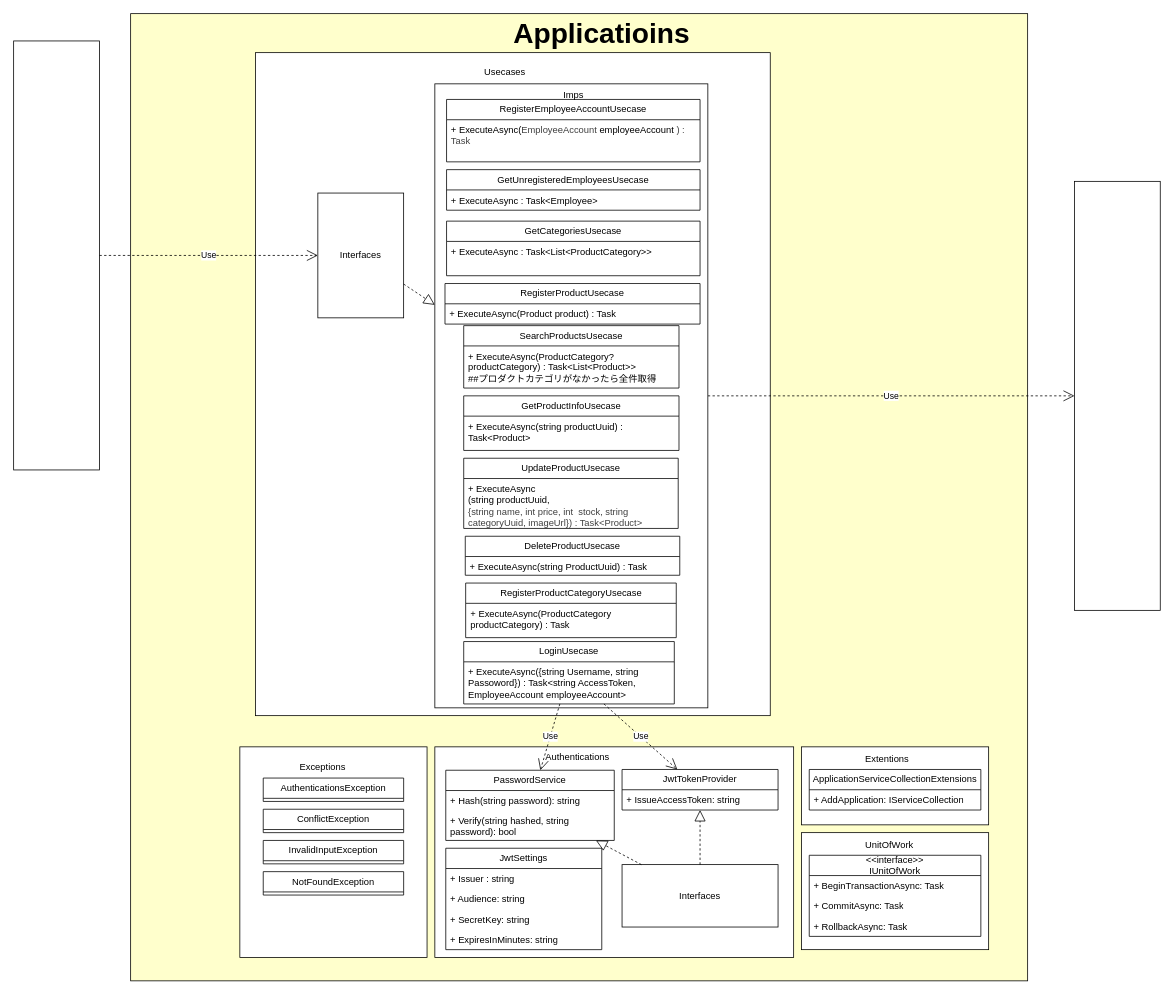
This 1174x994 diagram has some shape labels left out. The centre of each missing label's shape, as x and y in pixels:
Controllers: point 56,255
IRepository: point 1117,395
